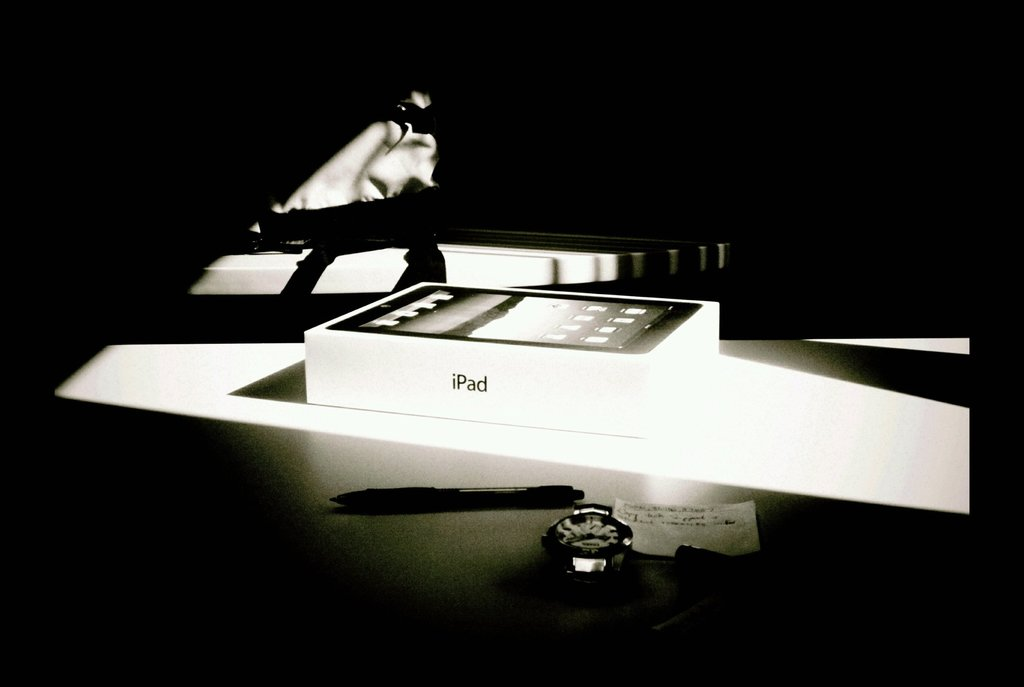watch: (540, 503, 632, 602)
